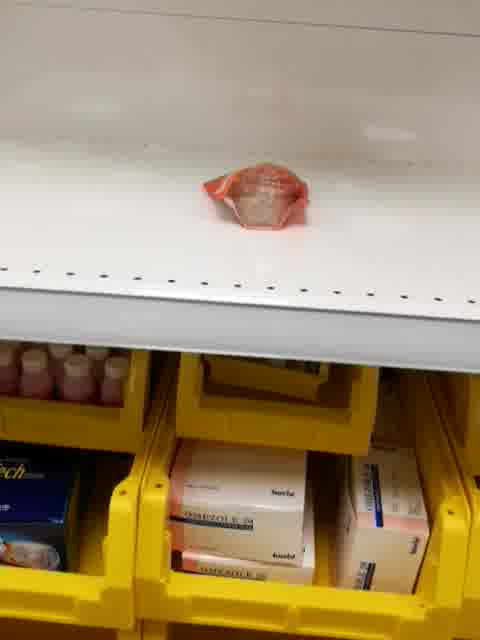whitechia: (203, 159, 309, 233)
